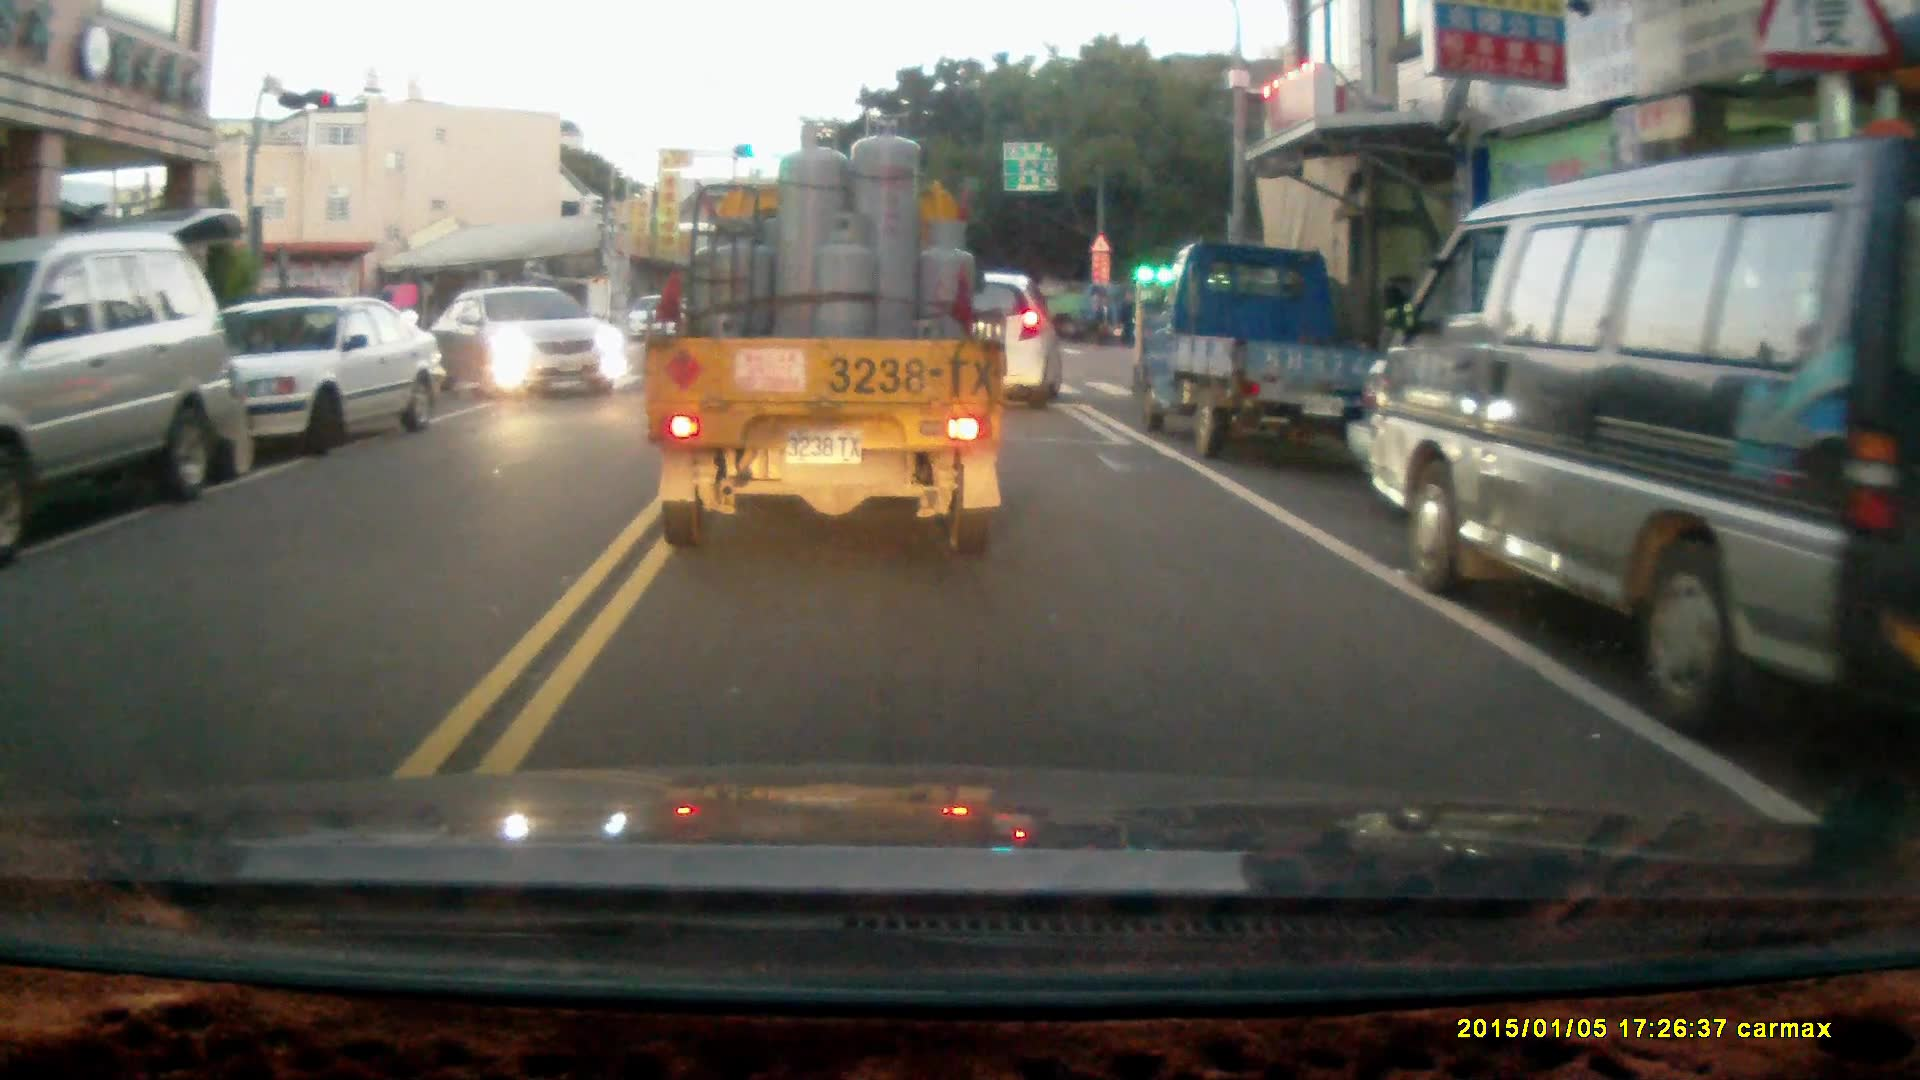vehicle: (1346, 133, 1920, 742), (647, 117, 1017, 559), (1, 225, 229, 516), (1129, 239, 1382, 459), (175, 301, 443, 473), (891, 268, 1058, 409), (436, 286, 632, 404)
